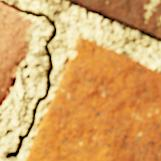brick: (26, 38, 160, 160), (65, 0, 160, 40), (0, 3, 33, 106)
crack: (0, 1, 57, 159)
